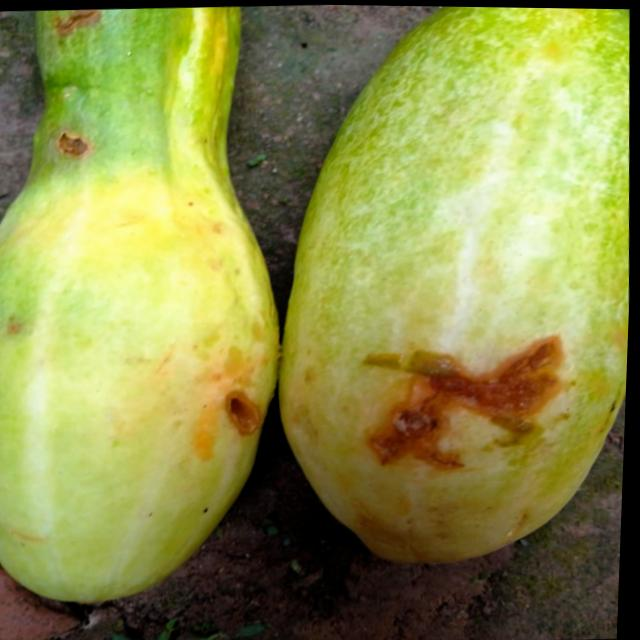Belly-Rot: (355, 315, 577, 482), (214, 381, 271, 450), (48, 8, 102, 47), (51, 123, 93, 173)
